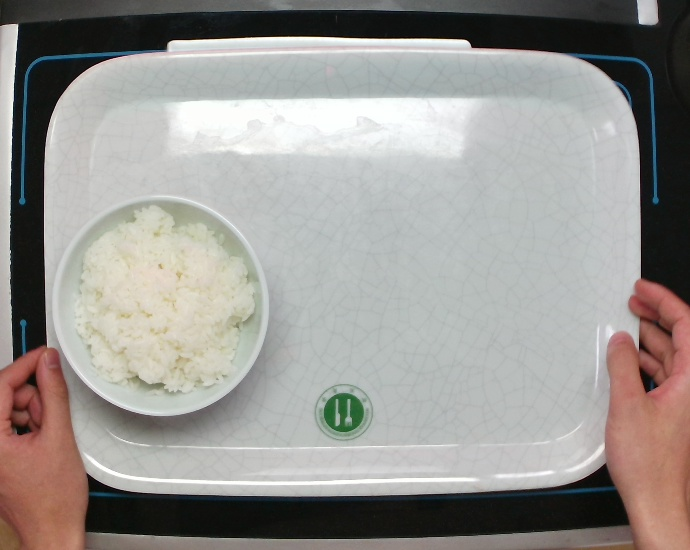JYsf-Fan_Wan: (49, 190, 272, 420)
